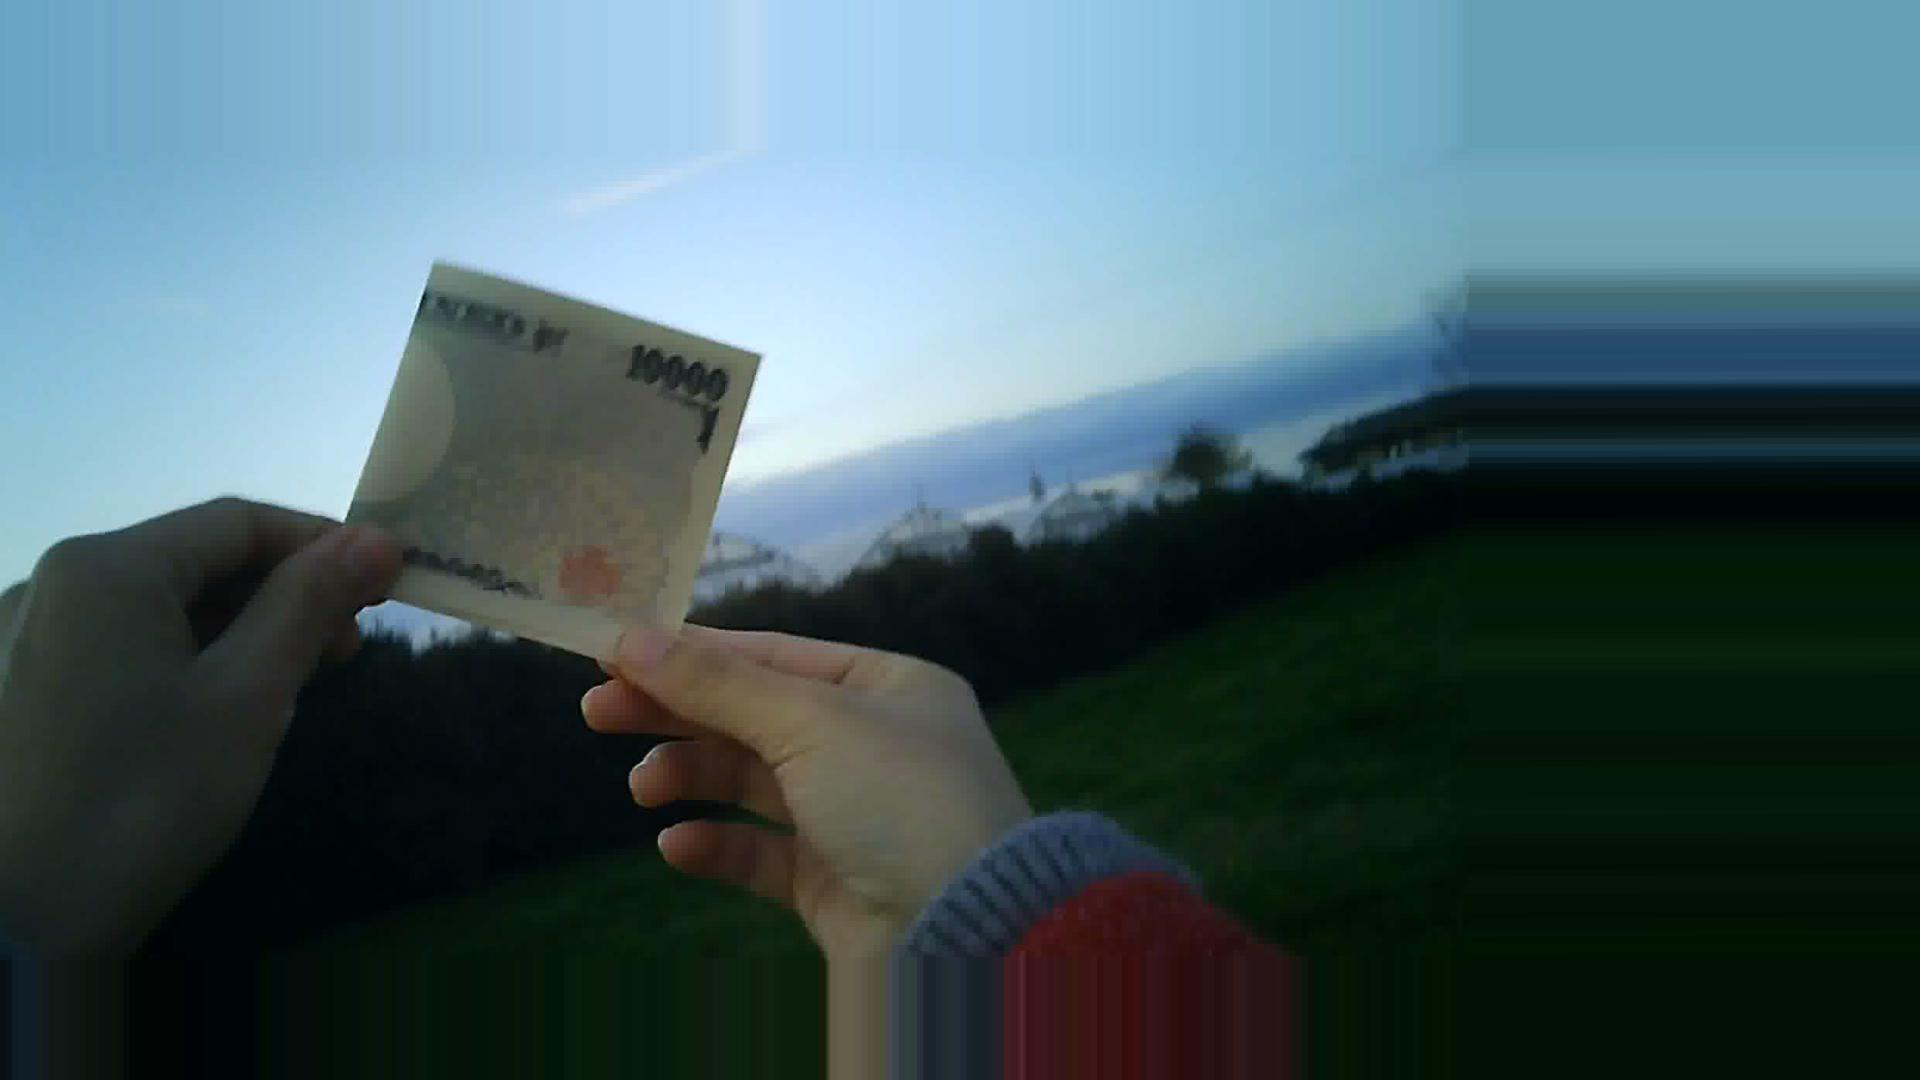10,000 Yen: (330, 237, 742, 651)
